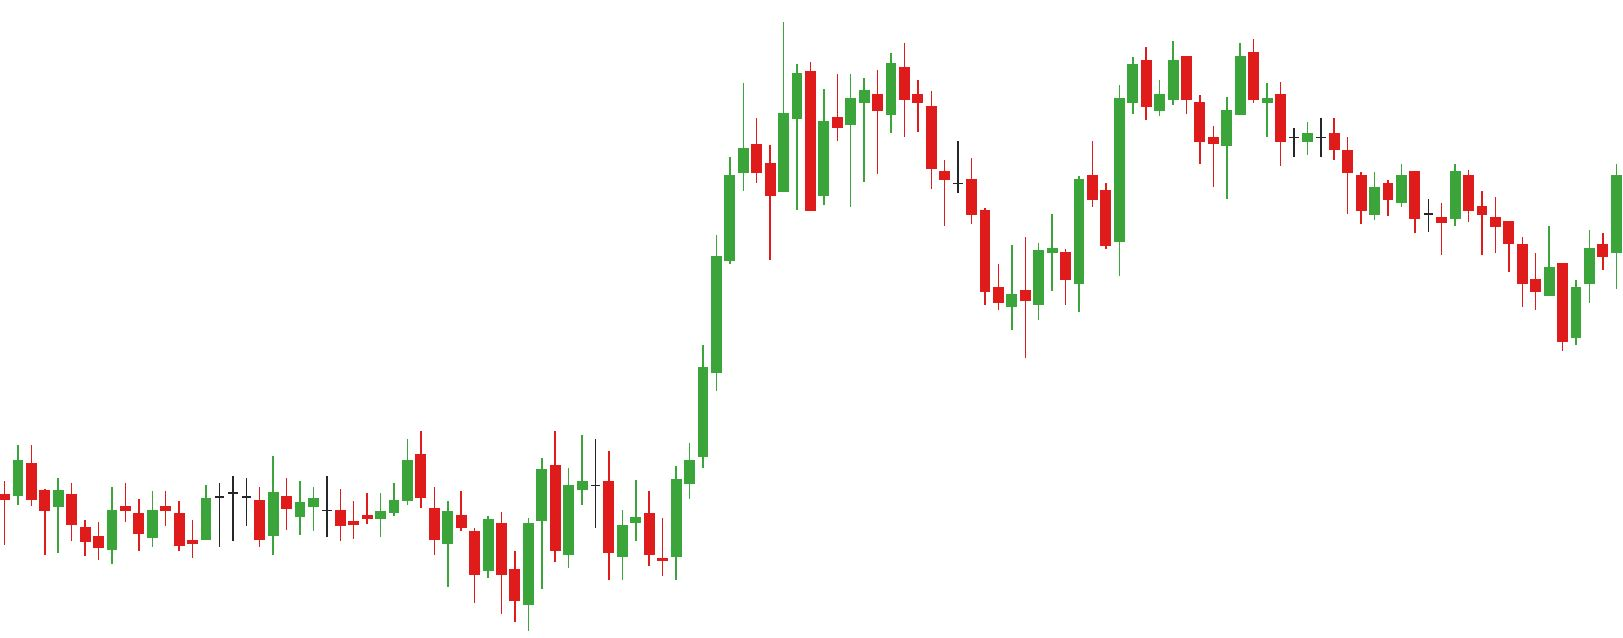buy: (763, 93, 1046, 365)
sell: (1163, 38, 1264, 133)
